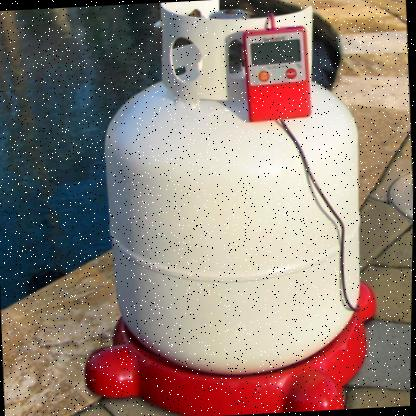gas-tank: (63, 0, 392, 381)
